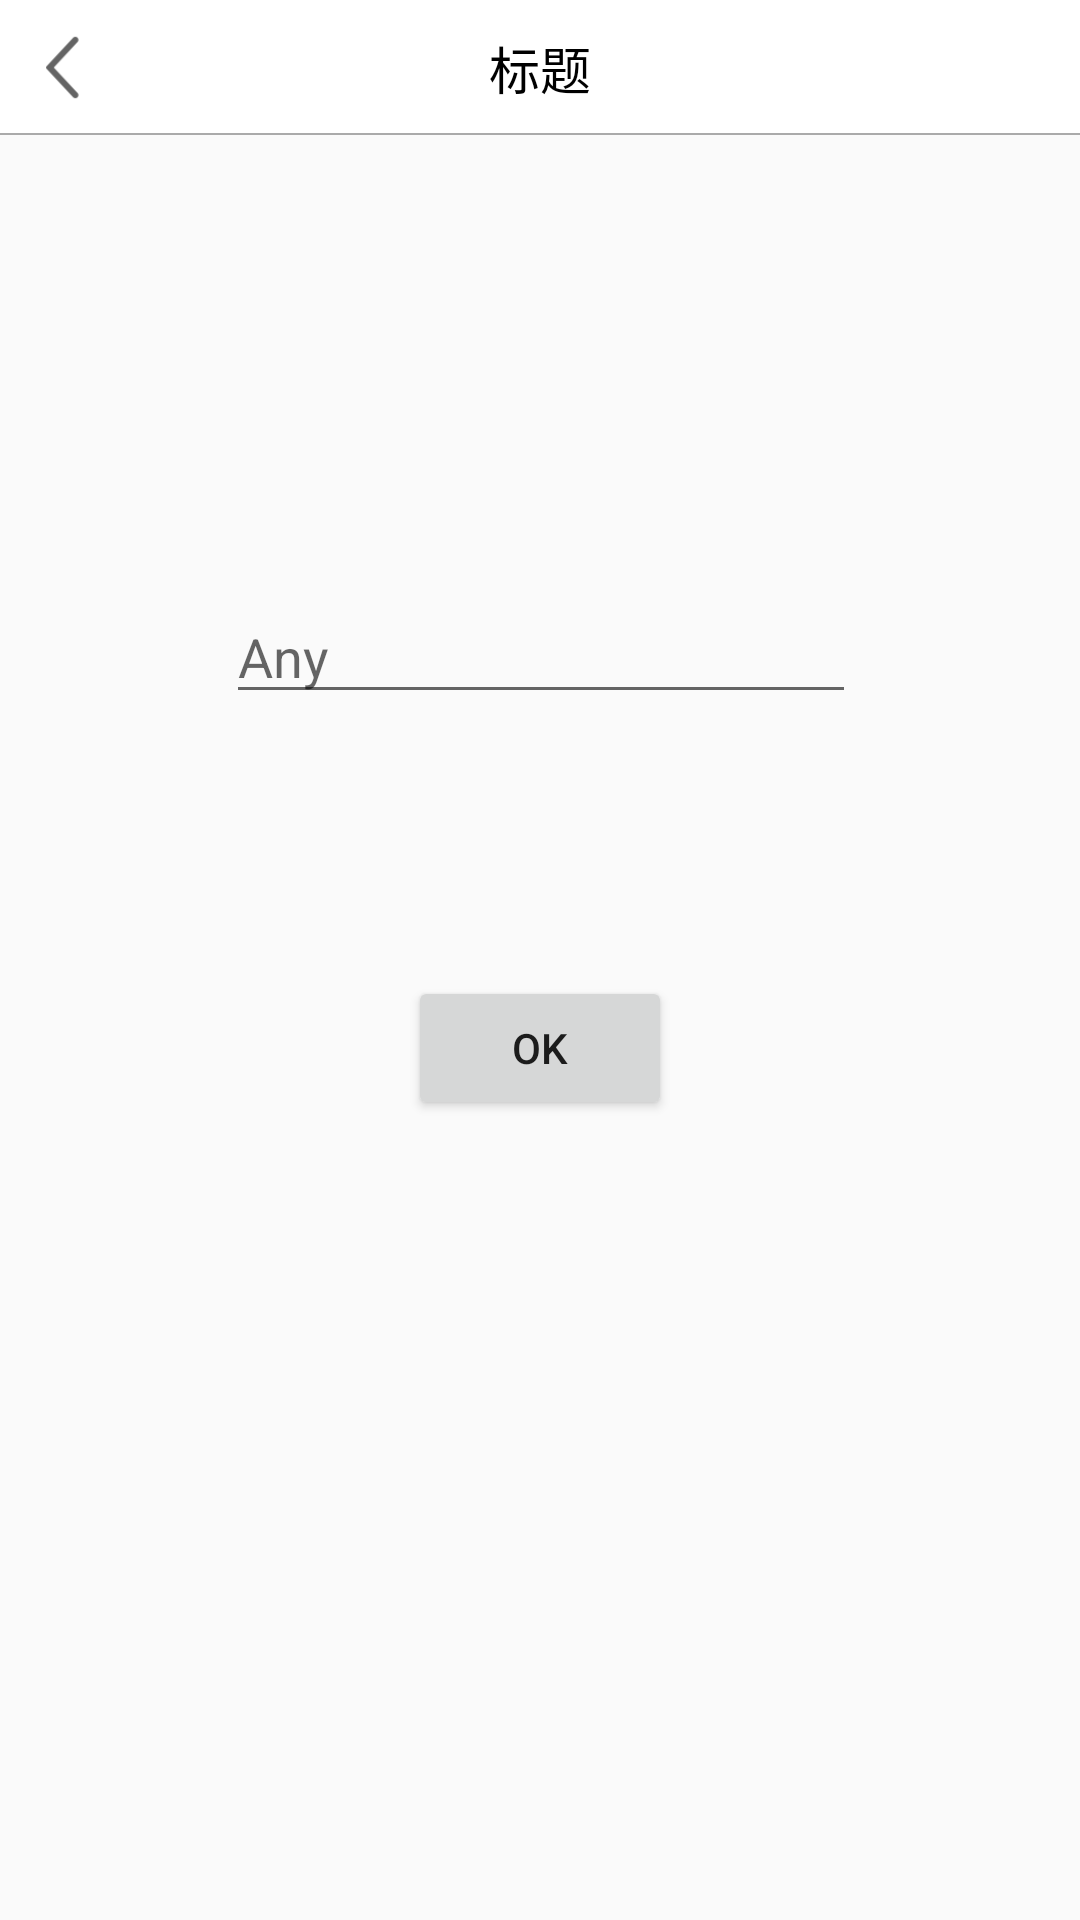

Icons on this 1080 x 1920 Android screen, each with its box as [x1=x1, y1=y1, x2=x2, y2=y2]:
back: [x1=46, y1=36, x2=79, y2=99]
